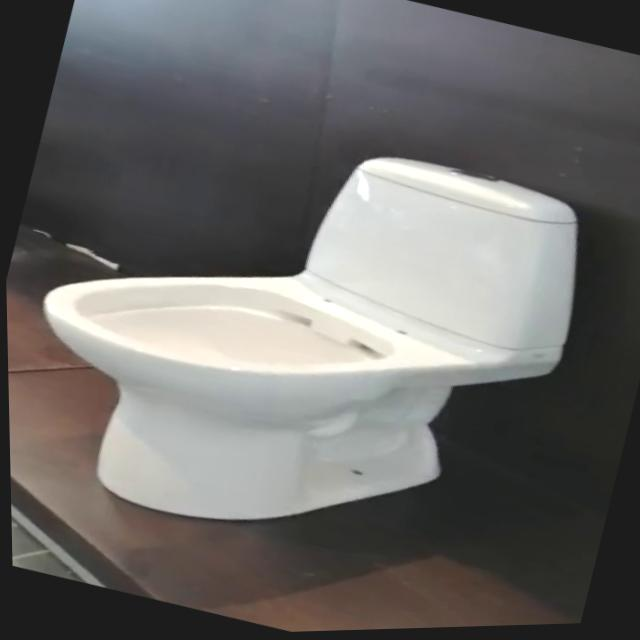toilet: (1, 68, 607, 607)
